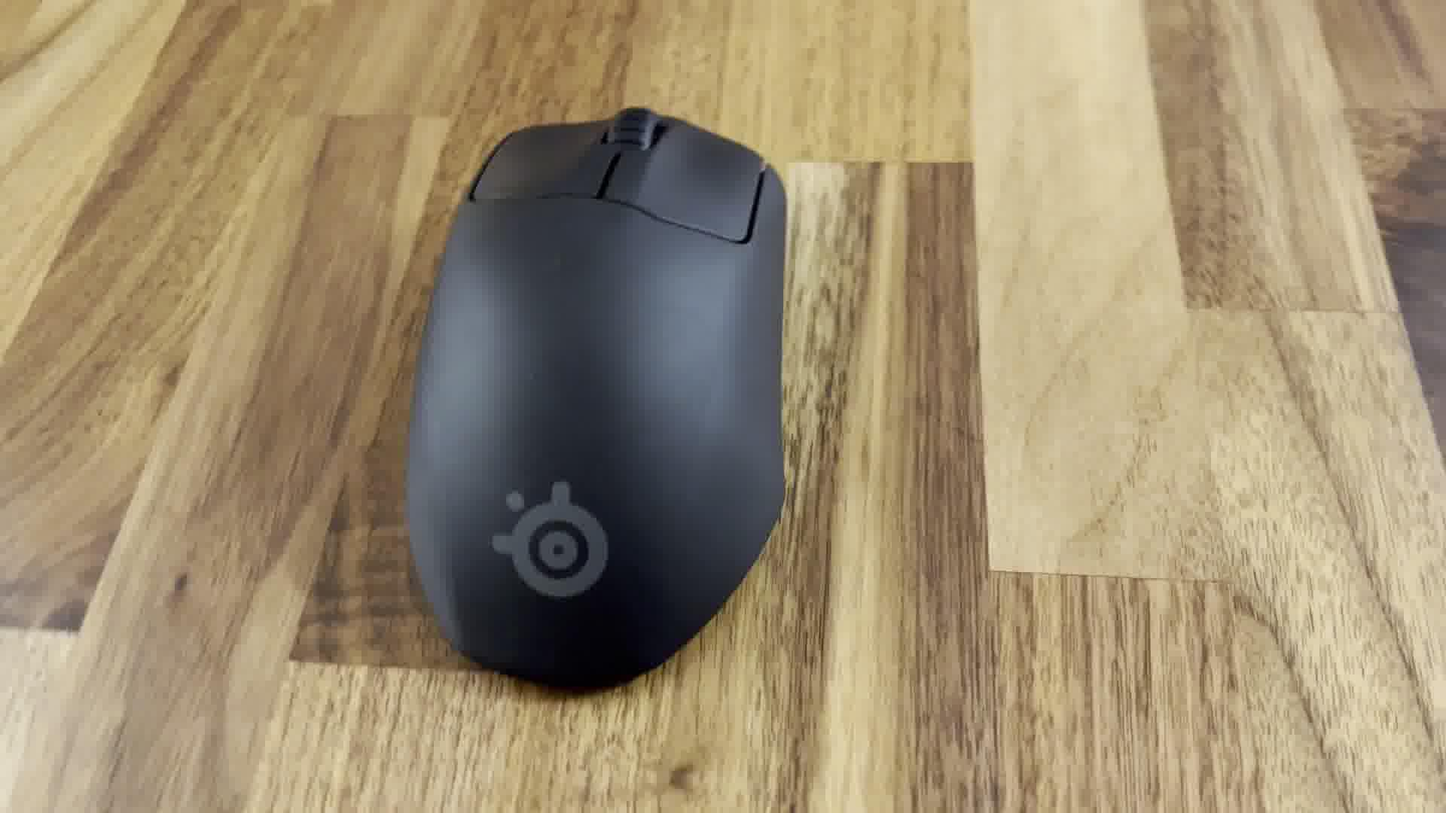mouse: (395, 96, 794, 703)
